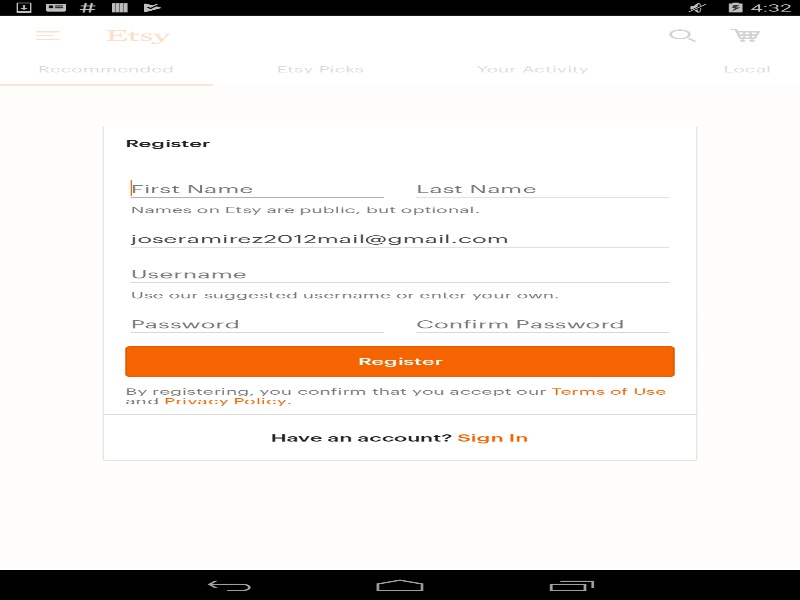Button: (125, 345, 674, 377)
Input: (125, 225, 674, 250), (125, 260, 674, 285), (125, 175, 389, 200), (410, 175, 674, 200), (125, 310, 389, 335), (410, 310, 674, 335)
